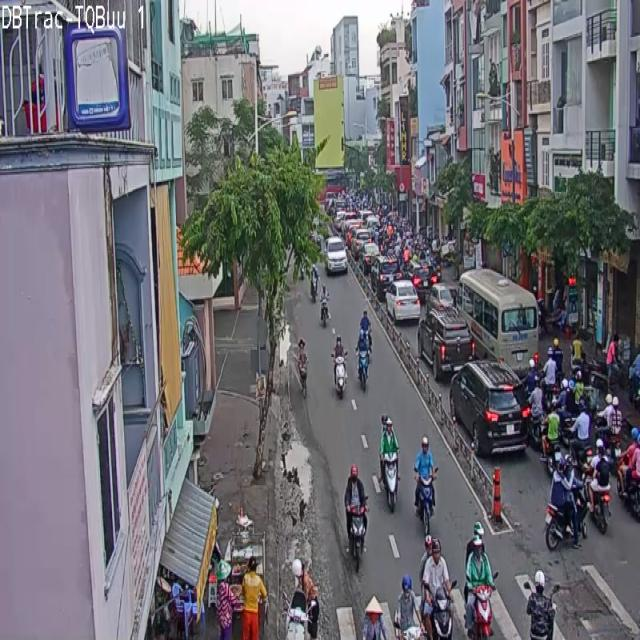car: (464, 530, 495, 639), (422, 540, 453, 639), (414, 435, 437, 533), (380, 417, 398, 511), (344, 464, 366, 538)
traffic-light: (450, 360, 527, 455), (418, 284, 471, 380), (325, 236, 347, 274)
